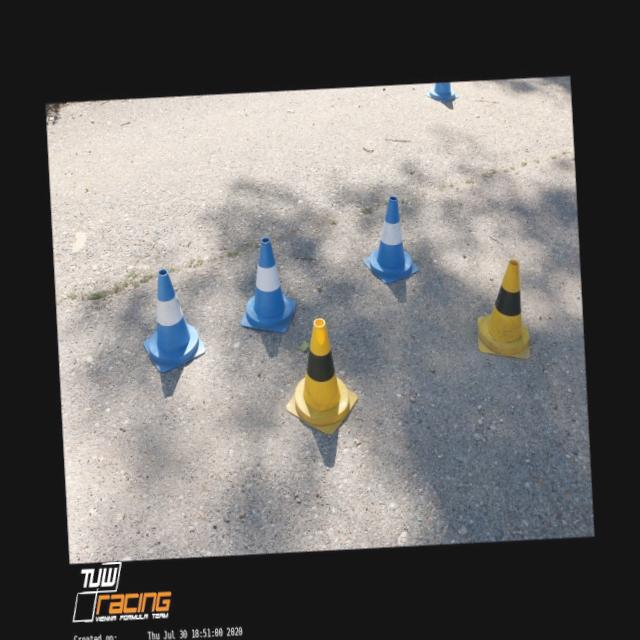blue_cone: (140, 267, 207, 373), (236, 236, 298, 334), (362, 194, 419, 284), (424, 82, 460, 103)
yellow_cone: (282, 316, 359, 436), (474, 258, 530, 362)
